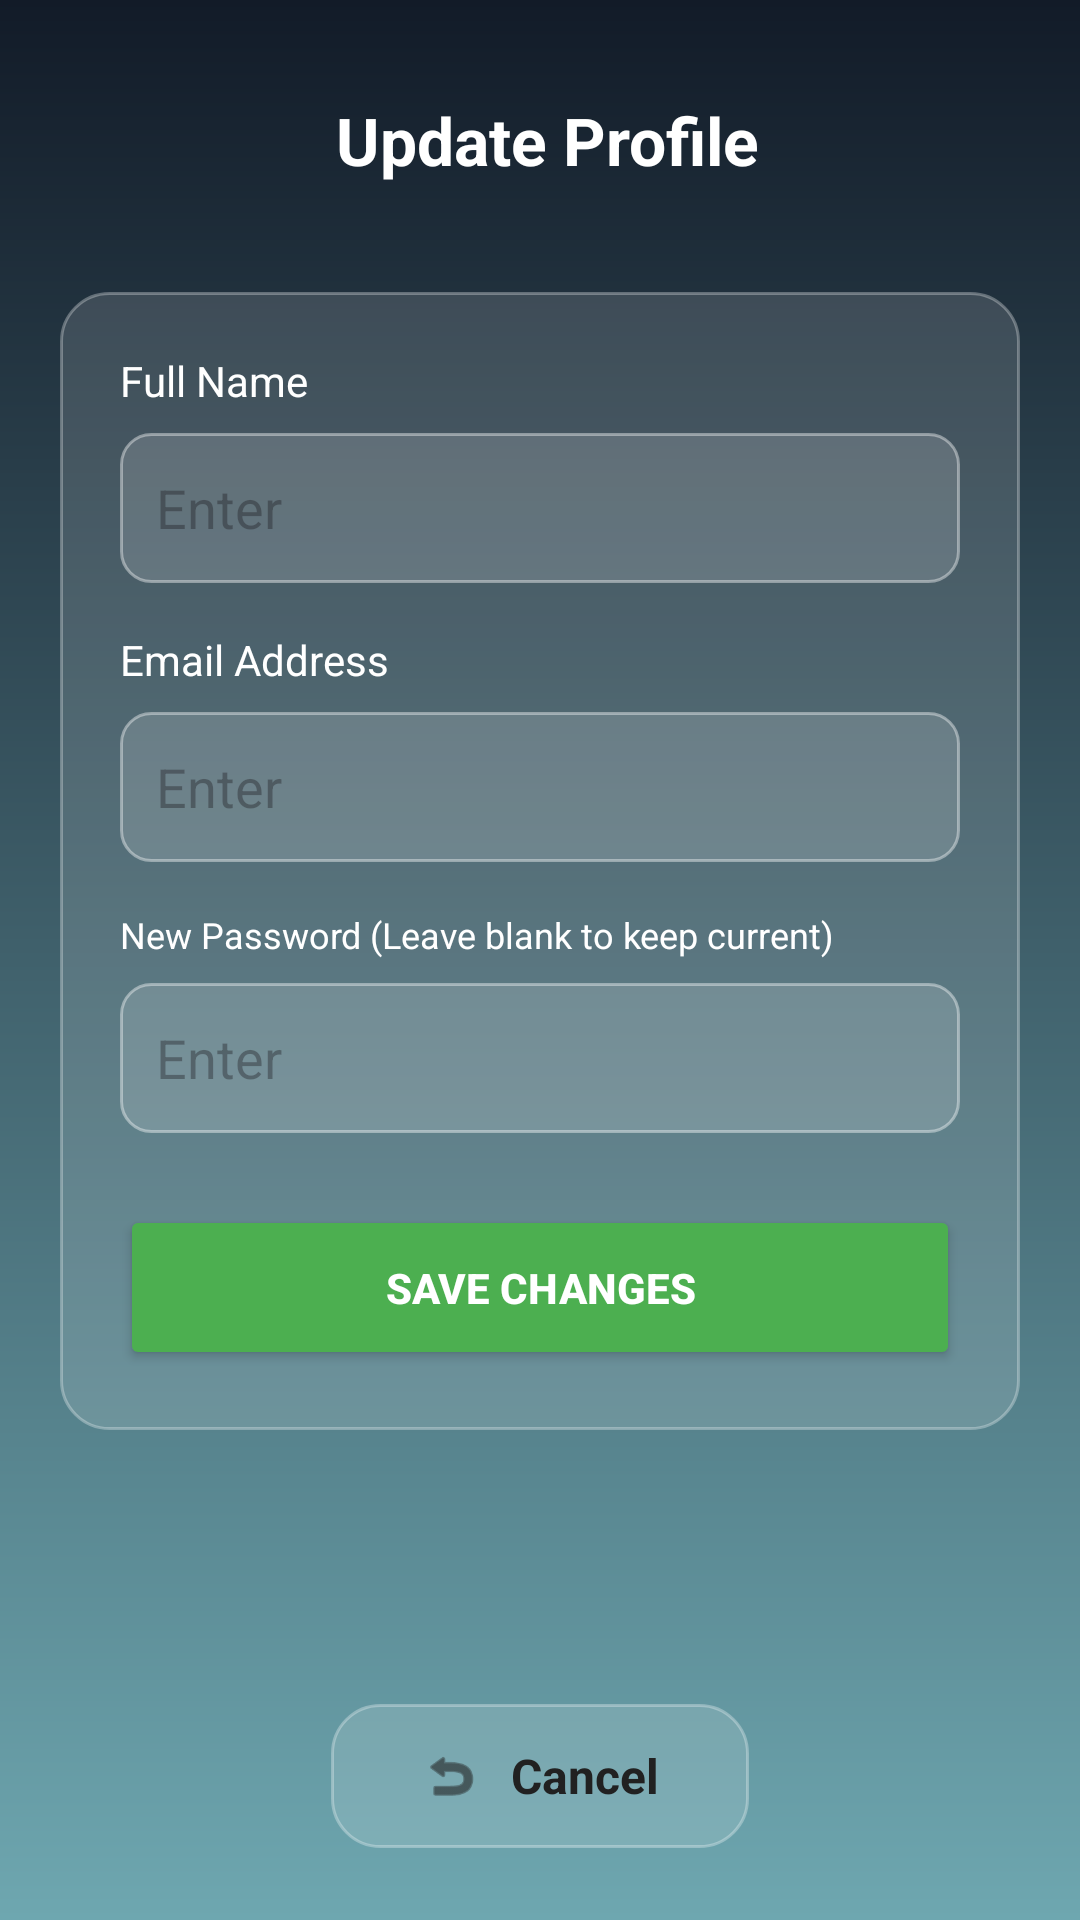

Icon click points for this 1080px x 1920px phone screenshot, format [x,y]:
Go back: [451,1776]
